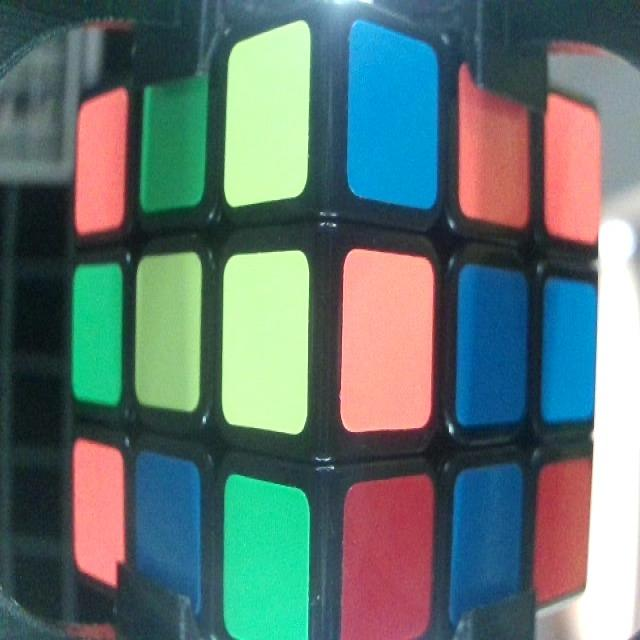b: (352, 47, 436, 183), (457, 481, 521, 605), (460, 298, 526, 411), (137, 474, 198, 587), (545, 286, 593, 416)
g: (225, 506, 308, 634), (145, 93, 204, 191), (77, 273, 119, 397)
o: (345, 266, 430, 407), (464, 97, 530, 216), (548, 102, 597, 236), (72, 459, 124, 567), (79, 110, 124, 204)
r: (348, 500, 432, 621), (540, 478, 588, 583)
y: (225, 266, 309, 402), (229, 62, 305, 178), (137, 269, 201, 395)
